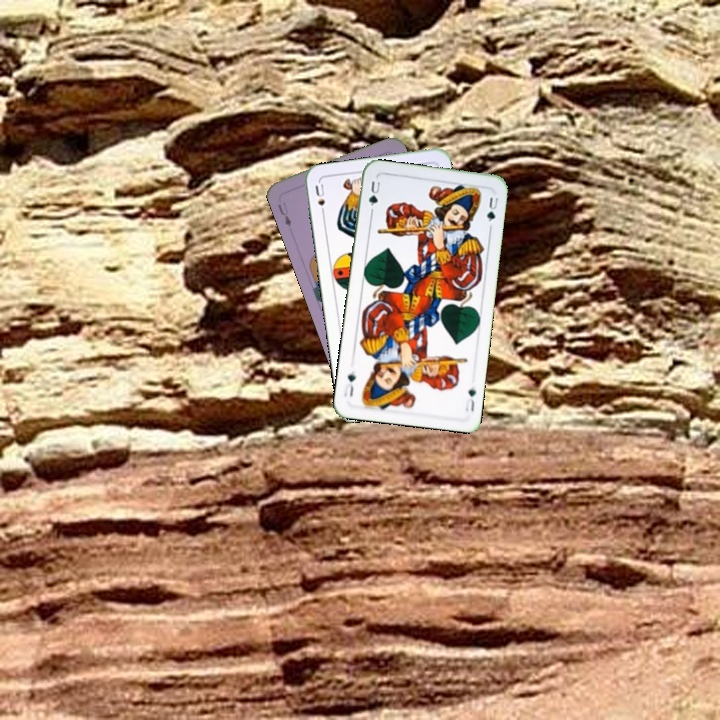EU: (273, 198, 294, 230)
GU: (461, 382, 479, 415), (365, 177, 383, 209)
SU: (311, 180, 328, 219)
